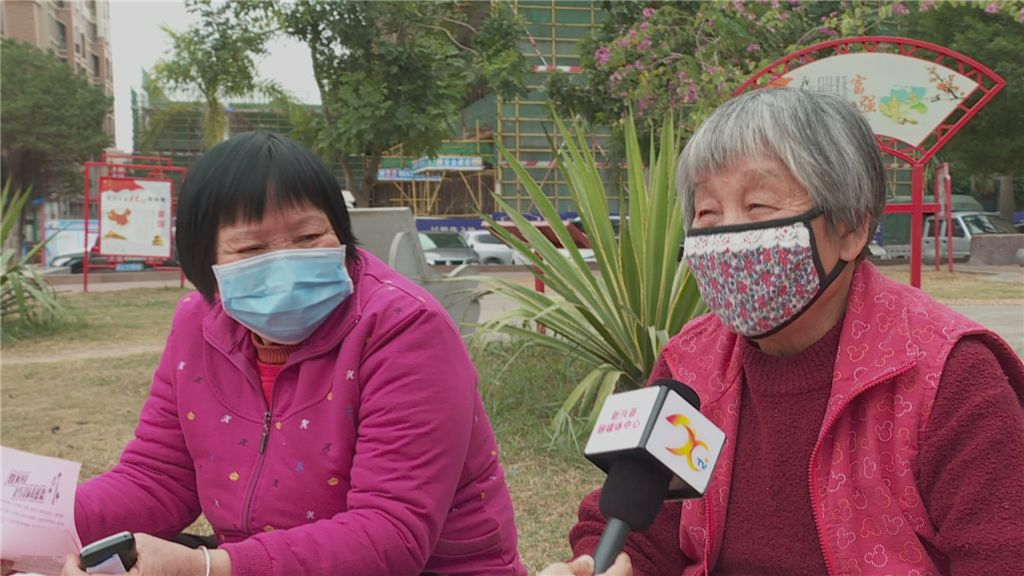mask: (678, 169, 840, 333), (198, 187, 358, 343)
